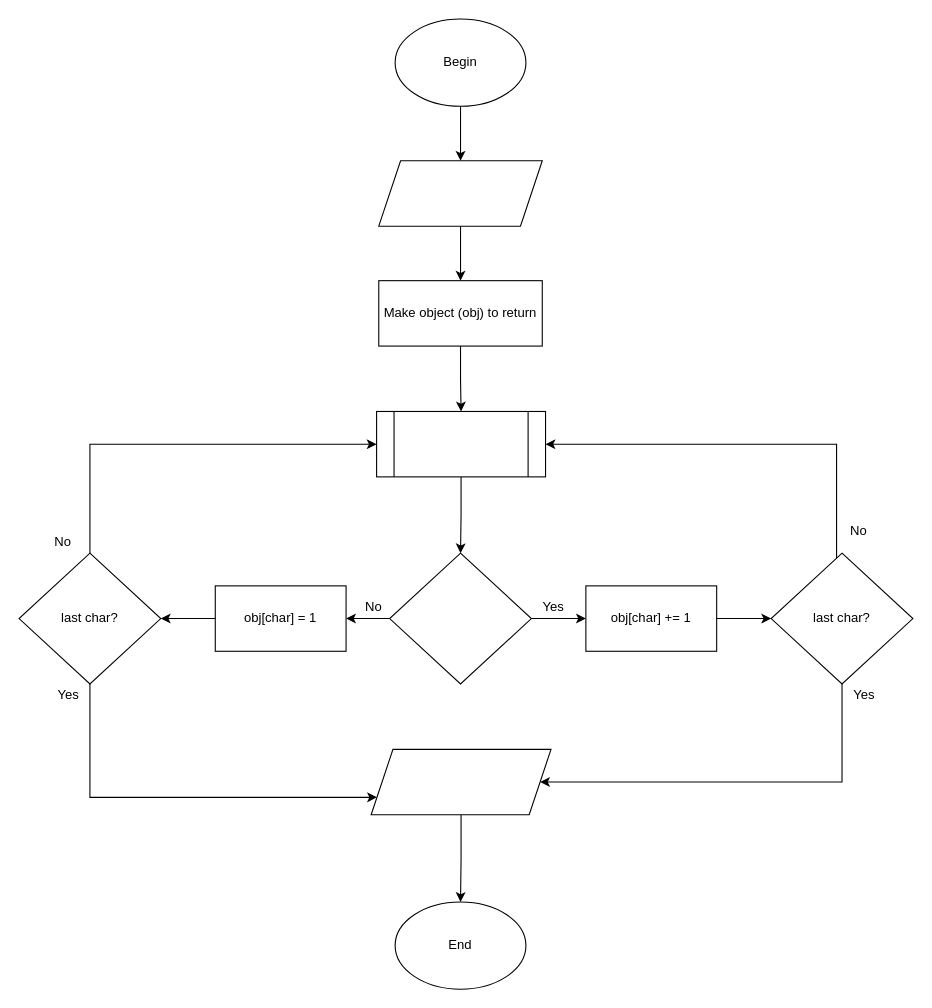
This 932x1008 diagram has some shape labels left out. Here are the shapes that lost their labels. From the top down, the centre of each, then its label:
point (460, 193): Get input on call: str
point (461, 443): Loop over each char in str
point (460, 618): obj[char] exist?
point (460, 781): return obj
